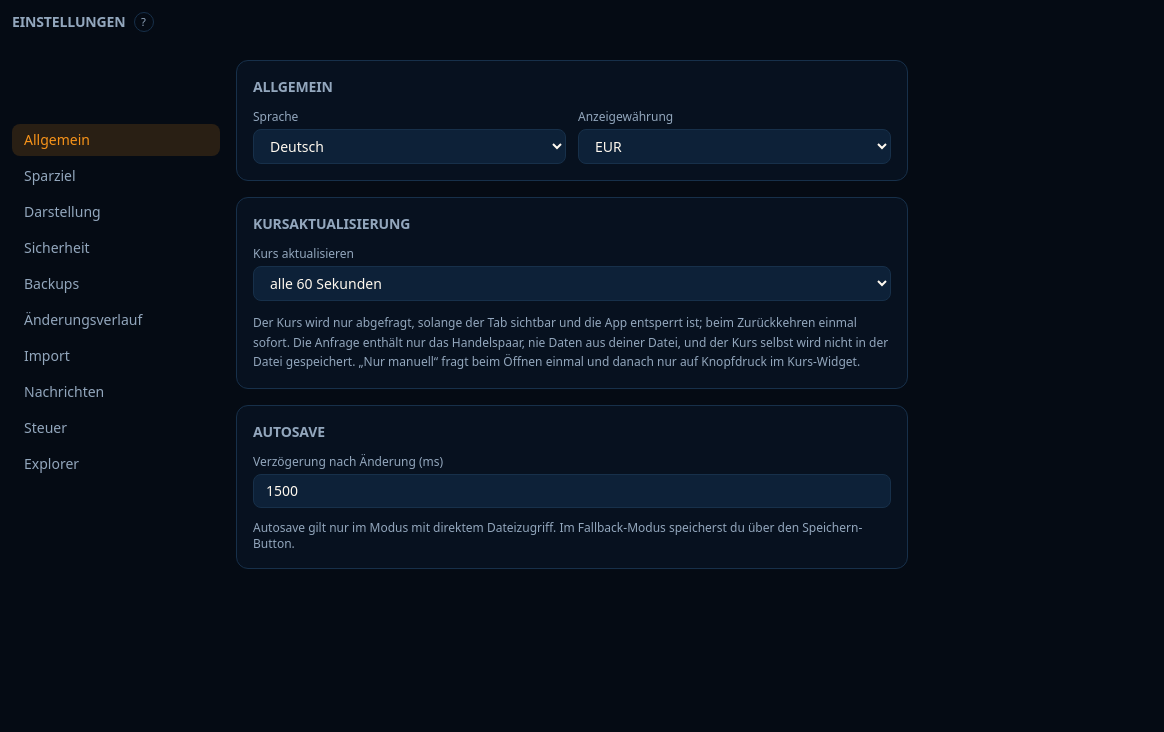
it: the groups › switches groups from the side menu
Click the button "Sicherheit" at (116, 248), box x1=12 y1=232 x2=220 y2=264
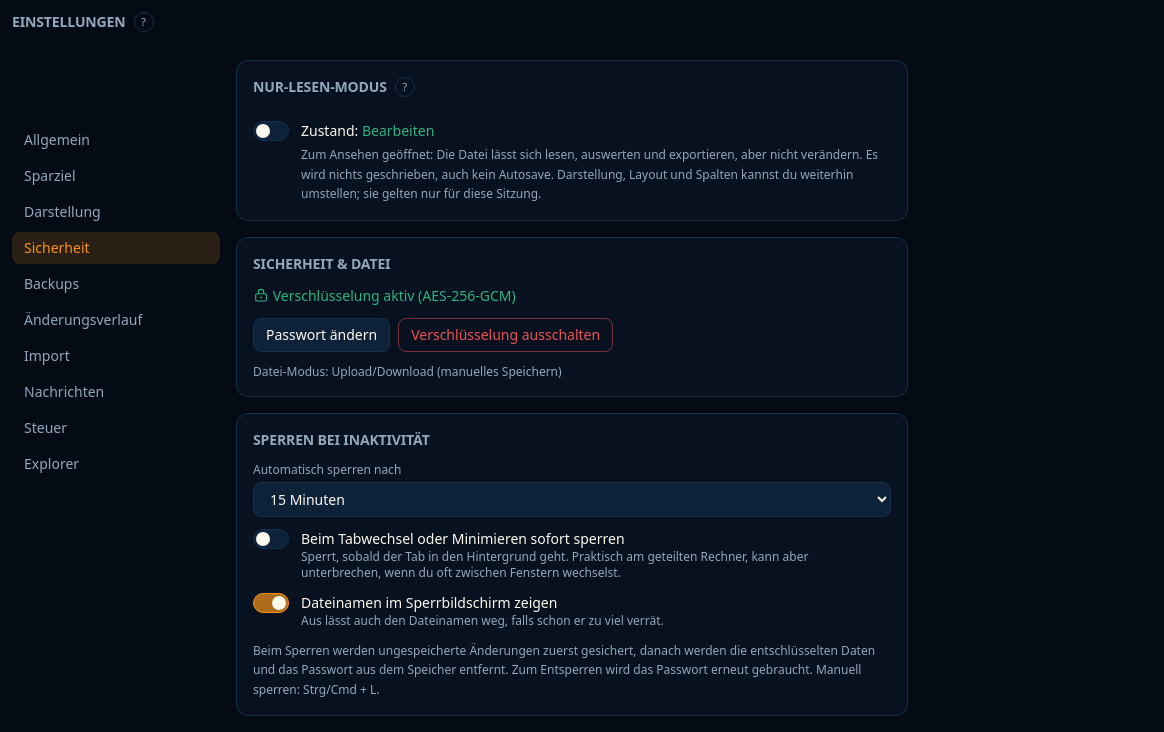
Result: the text "Automatisch sperren nach" is shown at x1=253 y1=460 x2=401 y2=478
Result: the text labelled "Sprache" is gone
